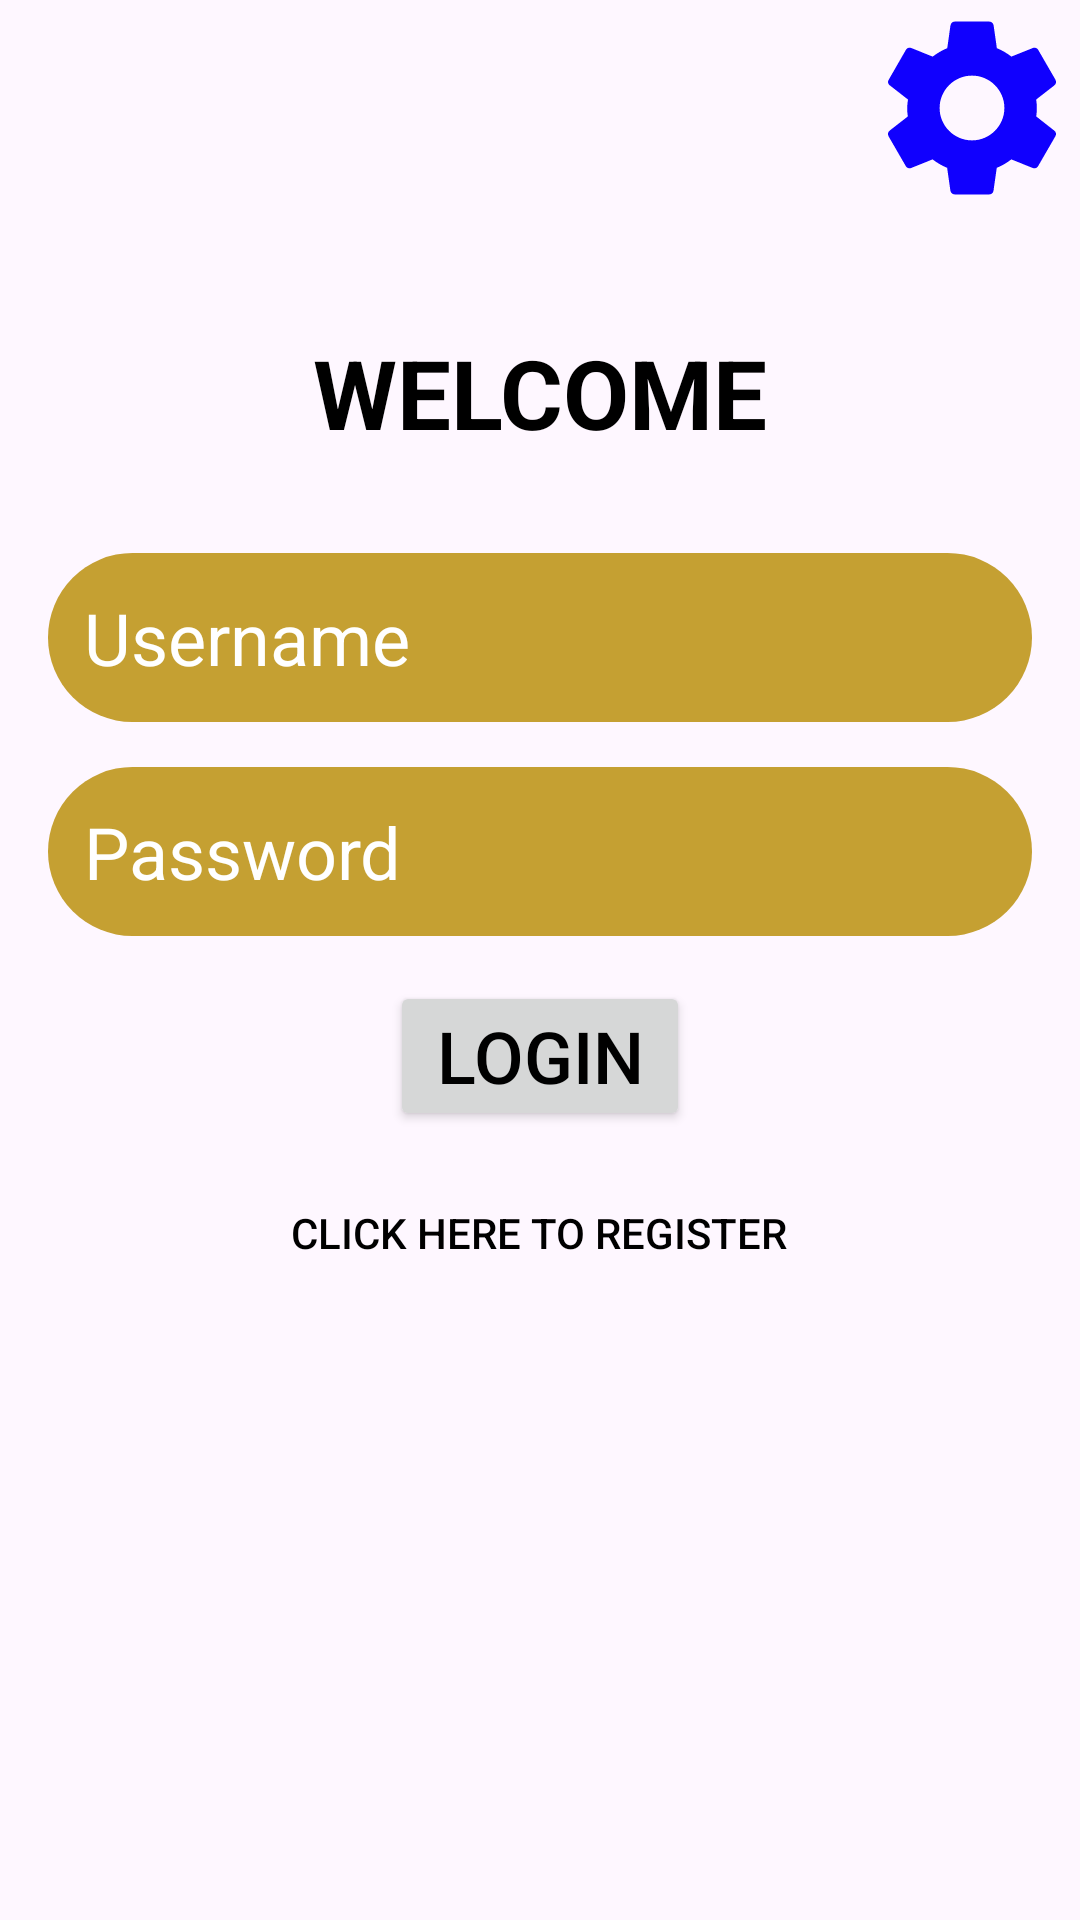

Locate icon controls on the screen. Image size 1080w x 1920h, boxes as (x1, y1, x2, y2).
Open Settings: (888, 21, 1056, 195)
